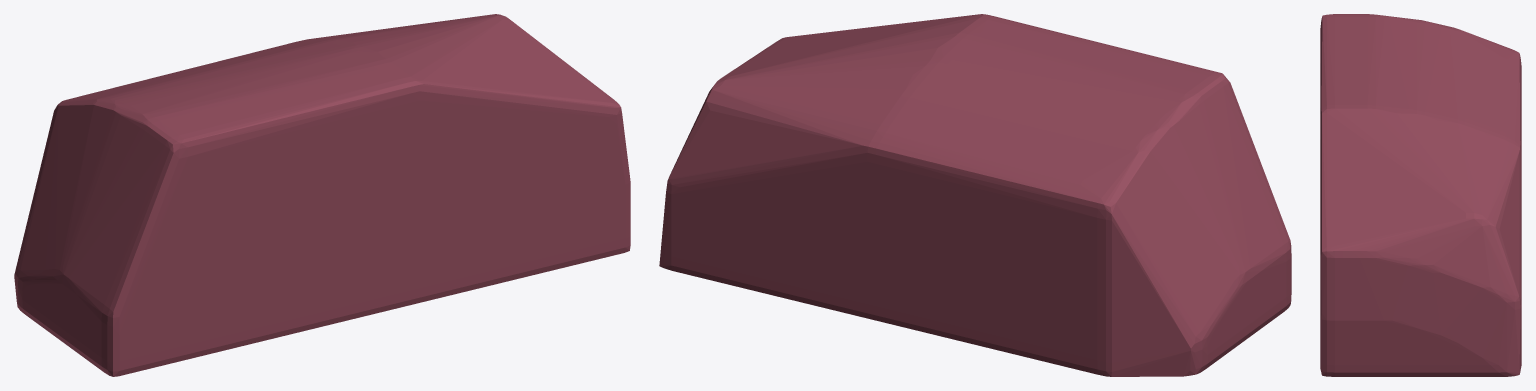
Rendered from left_shoulder_pitch_link_part_13.obj.
3 renders of one model, left to right at view 1: azimuth 30°, elevation 25°; view 2: azimuth 150°, elevation 25°; view 3: azimuth 270°, elevation 25°, orthographic. The views are drawn at different scales.
Size of the model in its own units: 0.0673 by 0.0274 by 0.0271.
